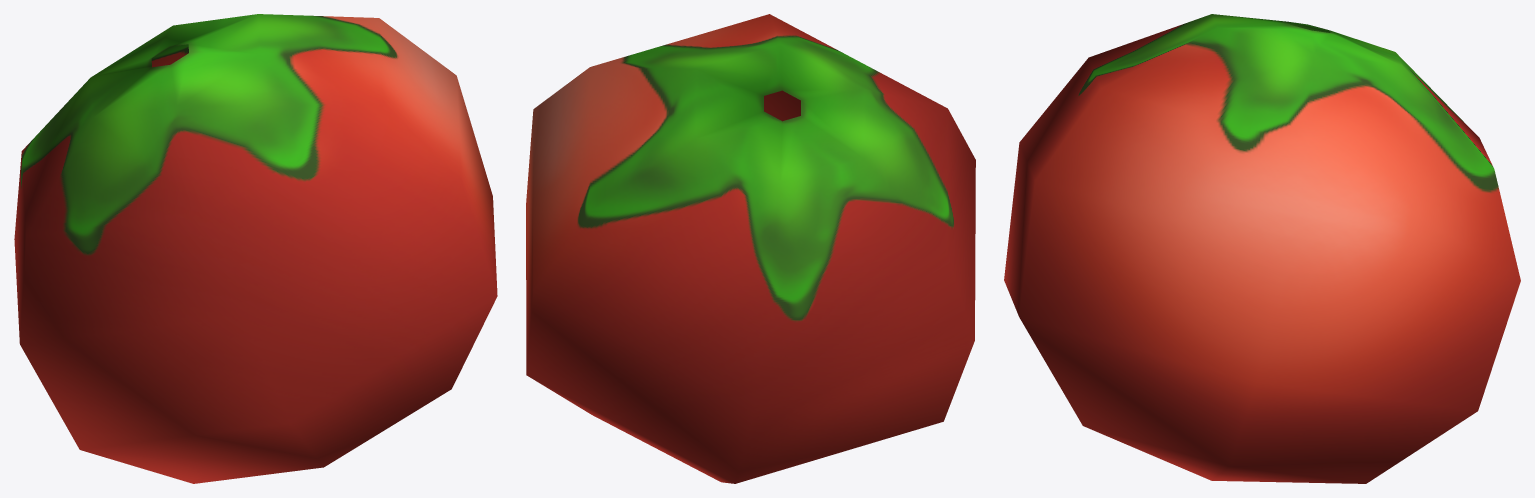
Rendered from tomatopiece.fbx.
3 views of the same model, side by side, from view 1: azimuth 30°, elevation 25°; view 2: azimuth 150°, elevation 25°; view 3: azimuth 270°, elevation 25° (orthographic). The views are drawn at different scales.
Parts seen in each view (by area): view 1: SM_Tomato_Lv3.001; view 2: SM_Tomato_Lv3.001; view 3: SM_Tomato_Lv3.001.
Part boxes in pixels (bbox=[...]): SM_Tomato_Lv3.001: bbox=[14, 14, 497, 483]; SM_Tomato_Lv3.001: bbox=[526, 14, 975, 483]; SM_Tomato_Lv3.001: bbox=[1004, 14, 1520, 483].
Bounding box in the file's own units: 9.61 × 8.04 × 8.66.
